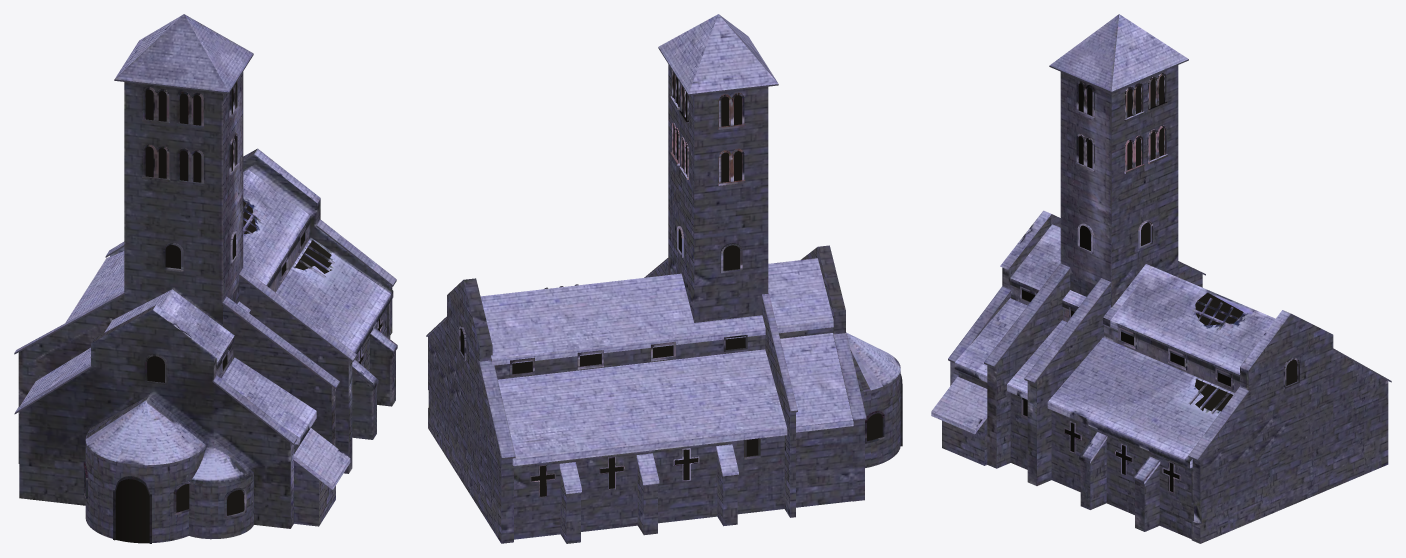
File: cathedral_textured.glb
3 views of the same model, side by side, from view 1: azimuth 30°, elevation 25°; view 2: azimuth 150°, elevation 25°; view 3: azimuth 270°, elevation 25° (orthographic). The views are drawn at different scales.
Visible parts, largest first — view 1: walls, roofs, openings, frames; view 2: walls, roofs, frames, openings; view 3: walls, roofs, openings, frames.
Part boxes in pixels (left/top/right/bottom): walls: left=18, top=72, right=395, bottom=542; roofs: left=14, top=14, right=397, bottom=489; openings: left=85, top=82, right=382, bottom=543; frames: left=83, top=80, right=383, bottom=543; walls: left=428, top=64, right=900, bottom=543; roofs: left=426, top=14, right=866, bottom=493; frames: left=458, top=70, right=902, bottom=497; openings: left=460, top=72, right=882, bottom=496; walls: left=942, top=65, right=1388, bottom=543; roofs: left=931, top=14, right=1391, bottom=484; openings: left=1022, top=75, right=1297, bottom=491; frames: left=1020, top=73, right=1299, bottom=493.
Size of the model in its own units: 15.02 by 15.6 by 15.64.
Materials: 2 (1 with a texture image).
